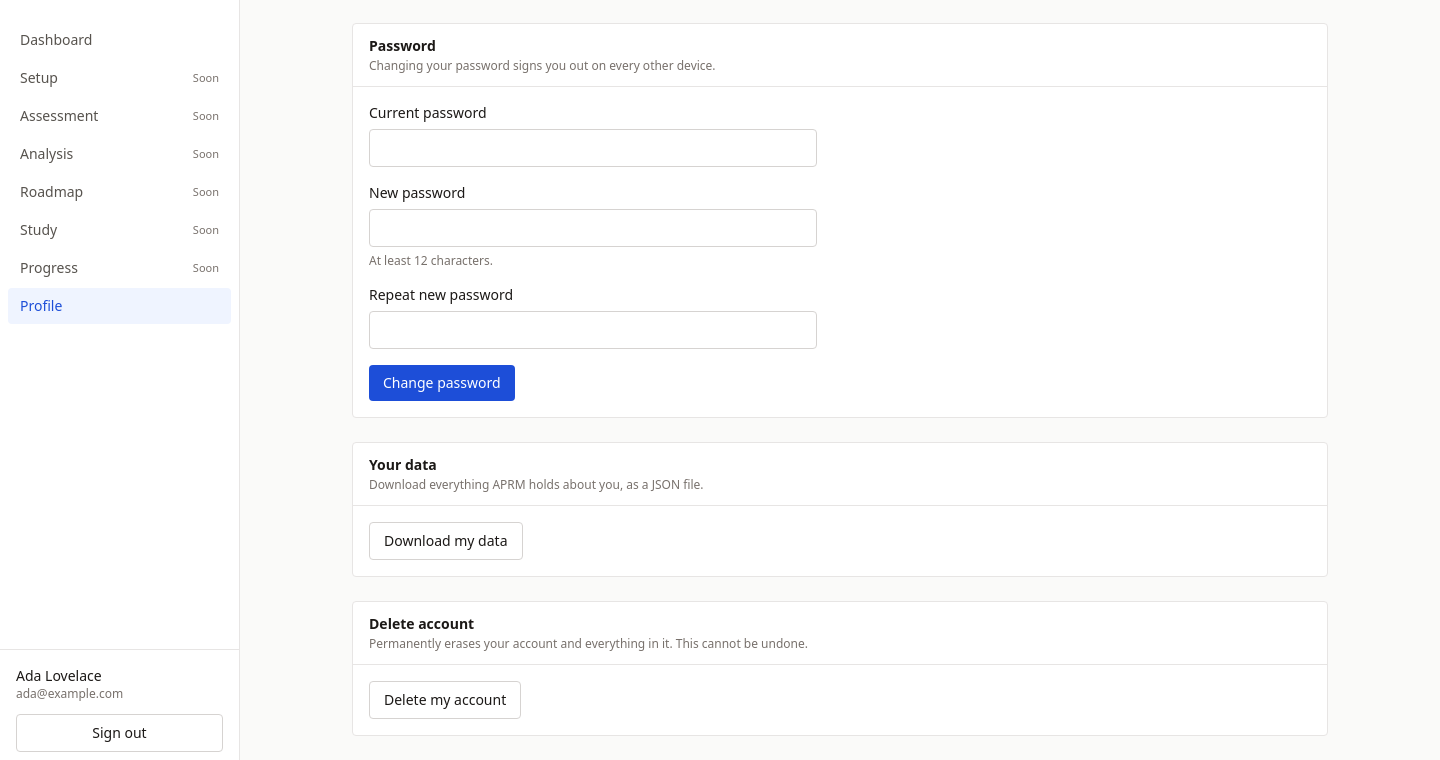
Scenario: ProfilePage › data export › explains a failed export
(page scrolled)
Click the button "Download my data".
click(446, 541)  # box [369,522,522,560]
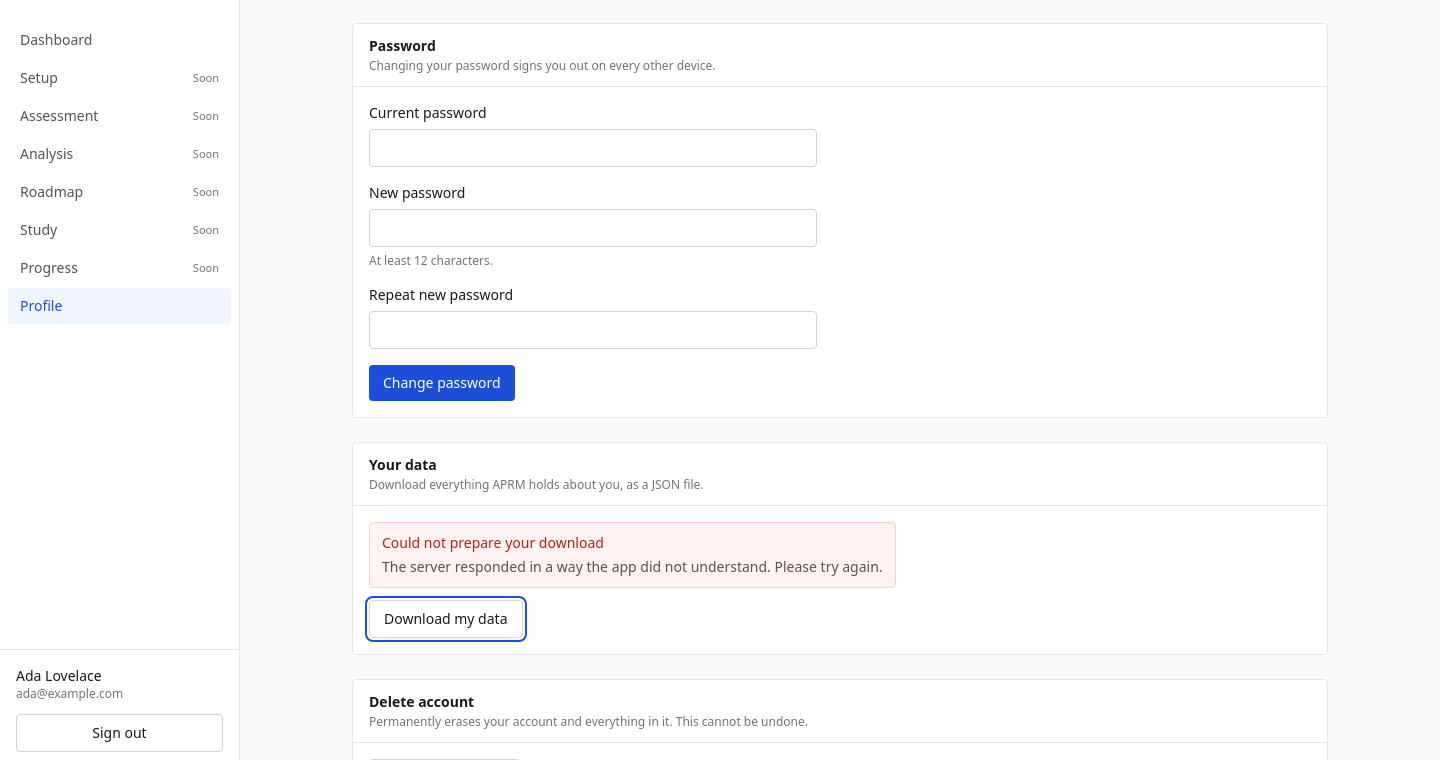
Expected: the message shows "Could not prepare your download", [382,533,604,552]
